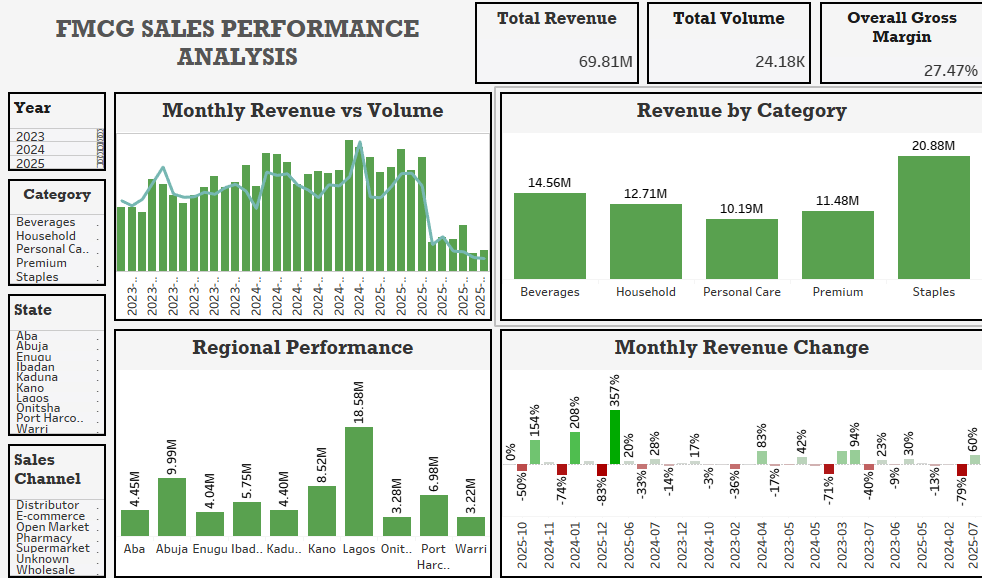

The page's visual inventory and layout, read from the dashboard file:
{"tool":"tableau","page":{"name":"Dashboard 1","canvas":[1000,600],"ordinal":0},"visuals":[{"type":"text","box":[8,8,467,90]},{"type":"worksheet","title":"sheet 1","mark":"Automatic","box":[475,8,172.3,90]},{"type":"worksheet","title":"Sheet 2","mark":"Automatic","box":[647.3,8,172.3,90]},{"type":"worksheet","title":"Sheet 3","mark":"Automatic","box":[819.7,8,172.3,90]},{"type":"worksheet","title":"Sheet 14","mark":"Automatic","rows":["Date","Date"],"box":[8,98,106,87]},{"type":"worksheet","title":"Sheet 5","mark":"Automatic","rows":["Revenue_NGN","Quantity_Sold"],"cols":["Month"],"box":[114,98,386,237]},{"type":"worksheet","title":"Sheet 6","mark":"Automatic","rows":["Revenue_NGN"],"cols":["Calculation_273875169510133760"],"box":[500,98,492,237]},{"type":"worksheet","title":"Sheet 15","mark":"Automatic","rows":["Calculation_273875169510133760"],"box":[8,185,106,115]},{"type":"worksheet","title":"Sheet 16","mark":"Automatic","rows":["Calculation_273875169514737665"],"box":[8,300,106,150]},{"type":"worksheet","title":"Sheet 7","mark":"Automatic","rows":["Revenue_NGN"],"cols":["Calculation_273875169514737665"],"box":[114,335,386,257]},{"type":"worksheet","title":"Sheet 8","mark":"Automatic","rows":["Calculation_779404226909466631"],"cols":["Month"],"box":[500,335,492,257]},{"type":"worksheet","title":"Sheet 17","mark":"Automatic","rows":["Sales_Channel"],"box":[8,450,106,142]}]}

Visuals, with their boxes in screenshot pixels (x1, y1, x2, y2), scaled from the page's 1000x600 canvas onto the 982x578 screenshot:
text: x1=8 y1=8 x2=466 y2=94
"sheet 1" worksheet: x1=466 y1=8 x2=636 y2=94
"Sheet 2" worksheet: x1=636 y1=8 x2=805 y2=94
"Sheet 3" worksheet: x1=805 y1=8 x2=974 y2=94
"Sheet 14" worksheet: x1=8 y1=94 x2=112 y2=178
"Sheet 5" worksheet: x1=112 y1=94 x2=491 y2=323
"Sheet 6" worksheet: x1=491 y1=94 x2=974 y2=323
"Sheet 15" worksheet: x1=8 y1=178 x2=112 y2=289
"Sheet 16" worksheet: x1=8 y1=289 x2=112 y2=434
"Sheet 7" worksheet: x1=112 y1=323 x2=491 y2=570
"Sheet 8" worksheet: x1=491 y1=323 x2=974 y2=570
"Sheet 17" worksheet: x1=8 y1=434 x2=112 y2=570
